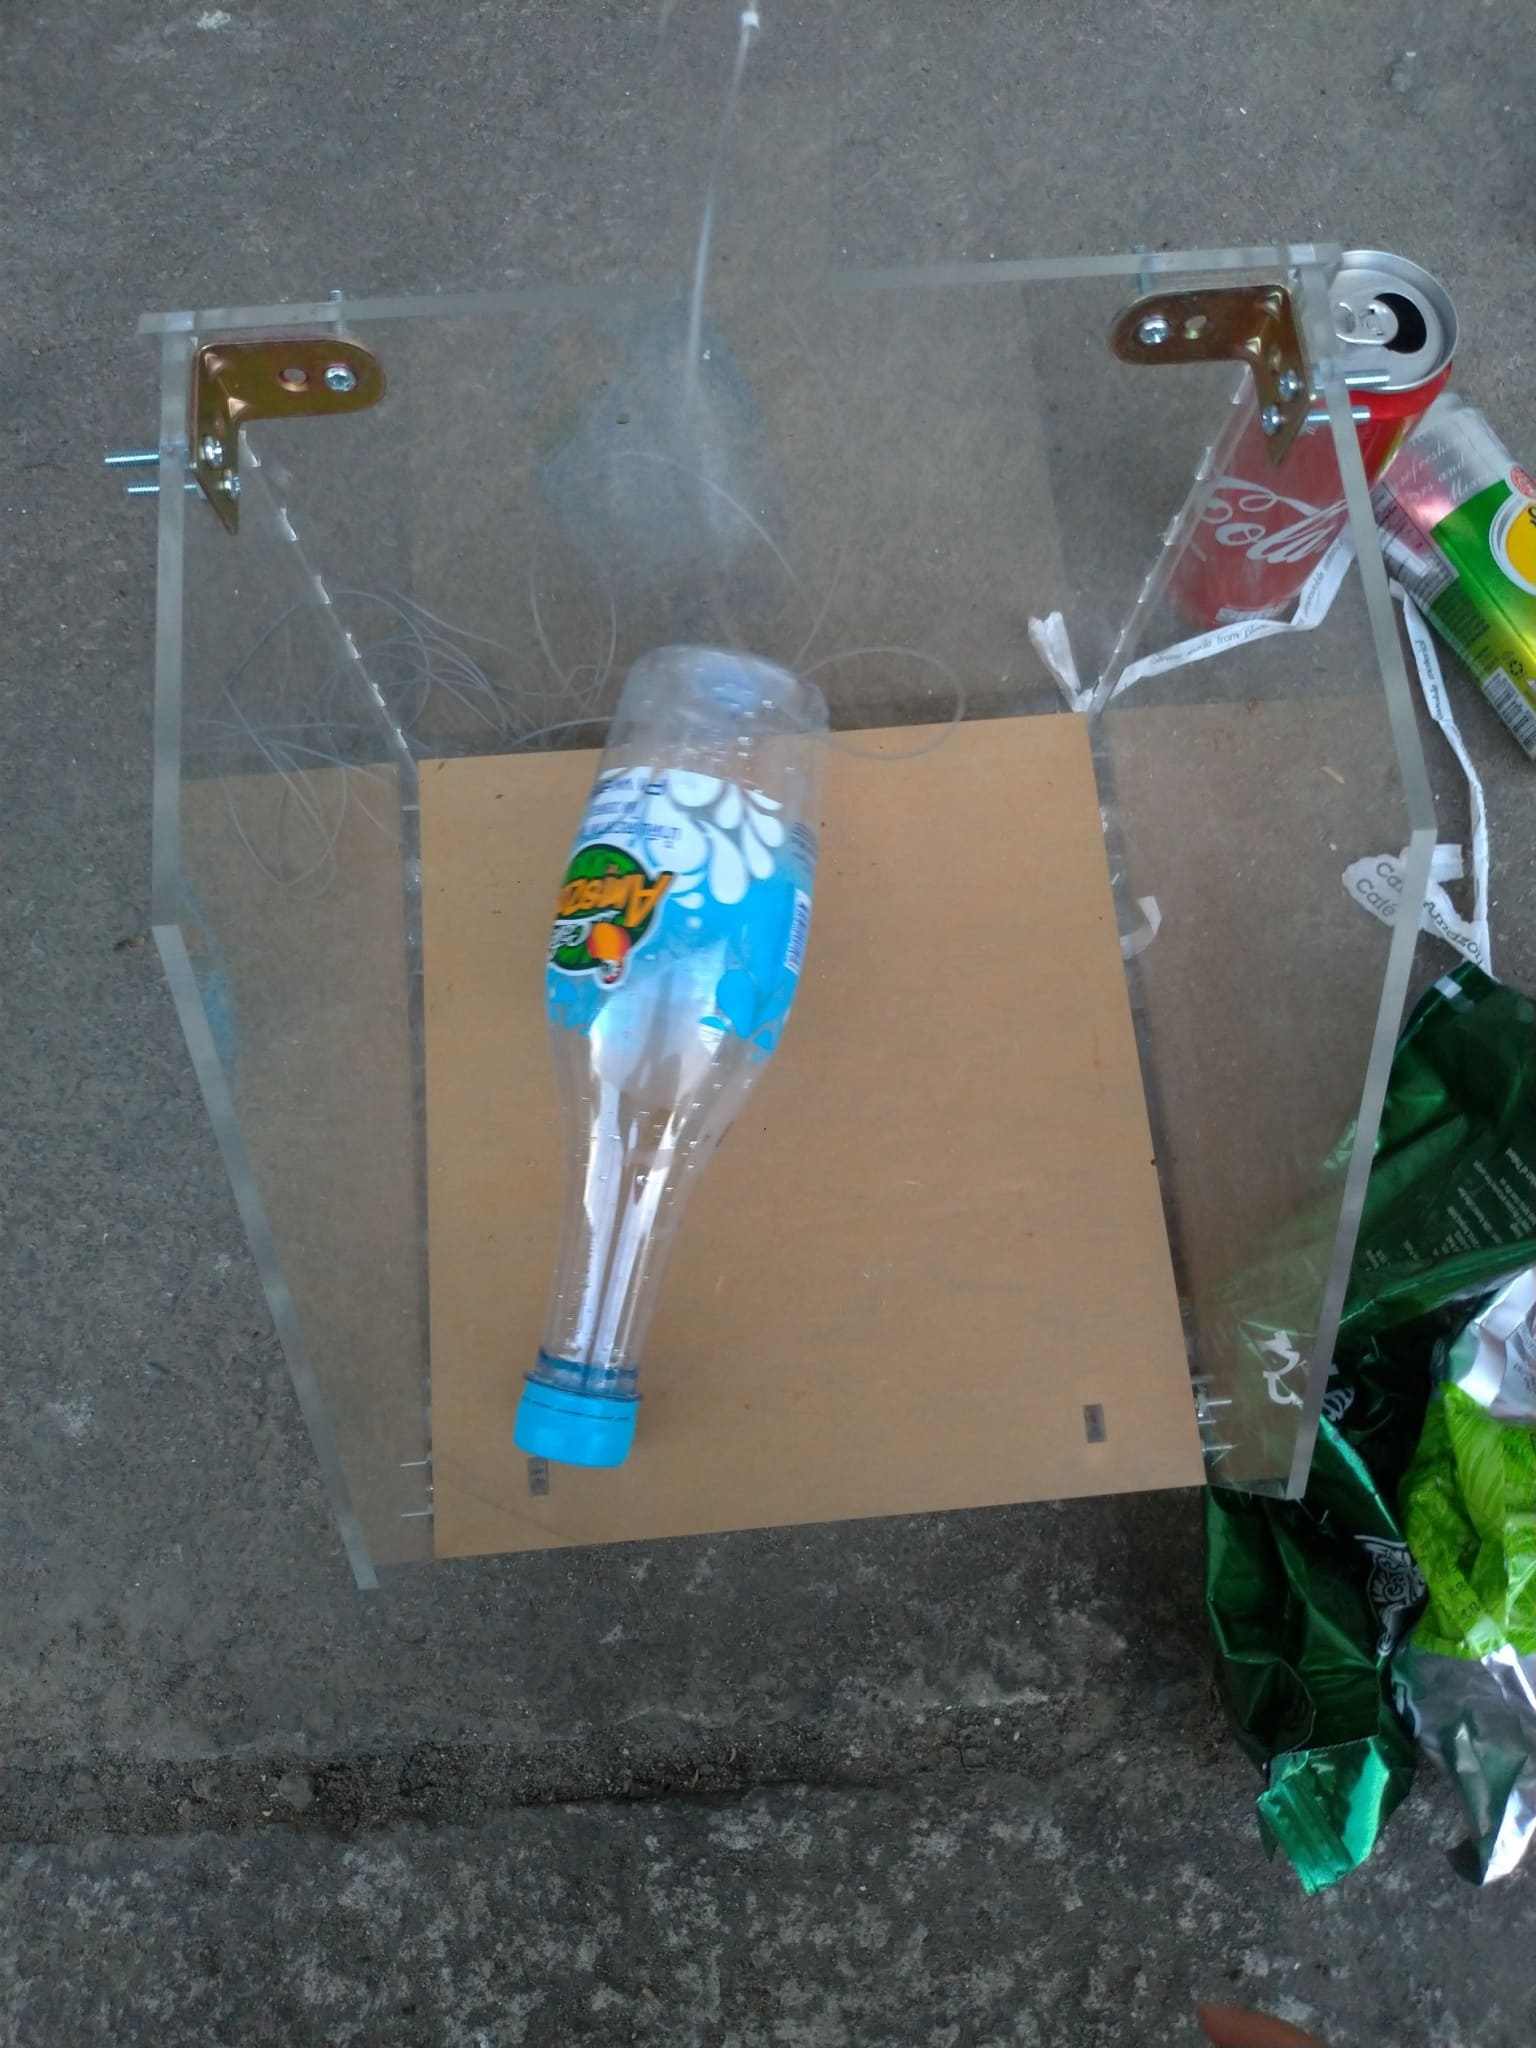AlCan: (1175, 255, 1454, 619), (1359, 377, 1536, 750)
Others: (1176, 980, 1533, 1903), (1383, 1280, 1536, 1872), (1334, 574, 1518, 980), (1016, 516, 1371, 703)
PlasticBottle: (516, 645, 833, 1467)
